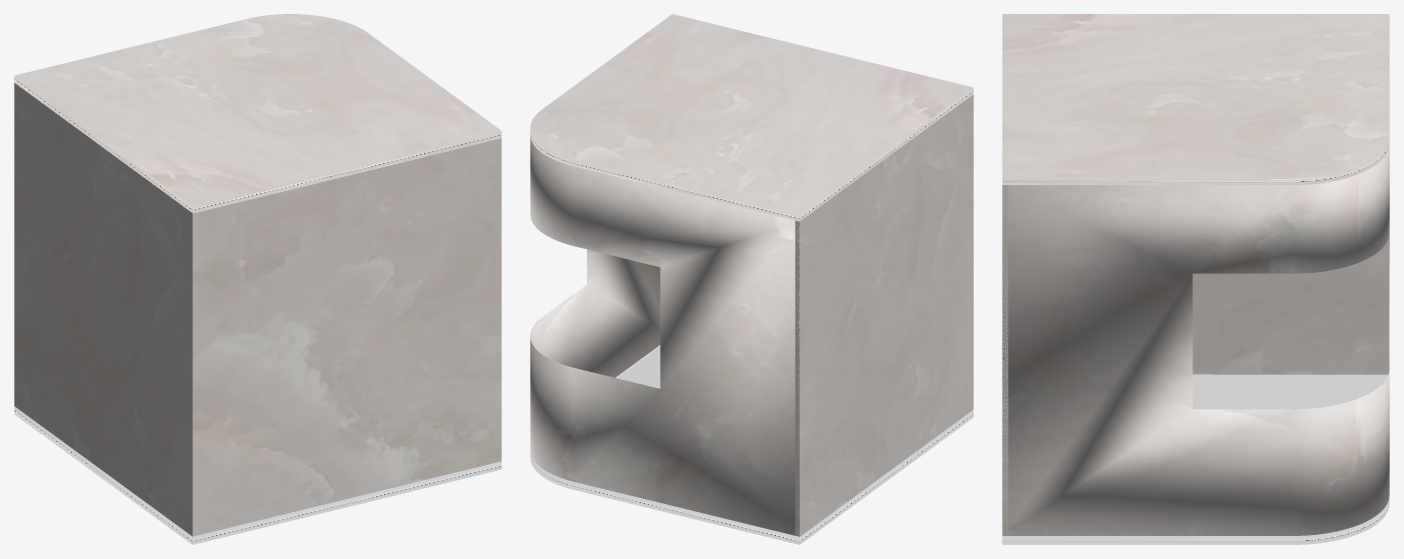
File: wall 1.fbx
The picture shows the model from 3 angles, left to right: view 1: azimuth 30°, elevation 25°; view 2: azimuth 150°, elevation 25°; view 3: azimuth 270°, elevation 25°; orthographic projection. The views are drawn at different scales.
Visible parts, largest first — view 1: Cube.001, Cube.003, Cube; view 2: Cube.002, Cube.001, Cube.003, Cube; view 3: Cube.002, Cube.003, Cube.001, Cube.
Boxes of the visible parts, left/top/right/bottom form: Cube.001: left=14, top=83, right=501, bottom=536; Cube.003: left=14, top=14, right=501, bottom=213; Cube: left=14, top=406, right=501, bottom=544; Cube.002: left=530, top=137, right=799, bottom=535; Cube.001: left=795, top=94, right=973, bottom=536; Cube.003: left=530, top=14, right=973, bottom=221; Cube: left=530, top=346, right=973, bottom=544; Cube.002: left=1002, top=145, right=1389, bottom=535; Cube.003: left=1002, top=14, right=1389, bottom=185; Cube.001: left=1002, top=185, right=1389, bottom=535; Cube: left=1002, top=374, right=1389, bottom=544.
Size of the model in its own units: 1000 by 1047 by 1000.
